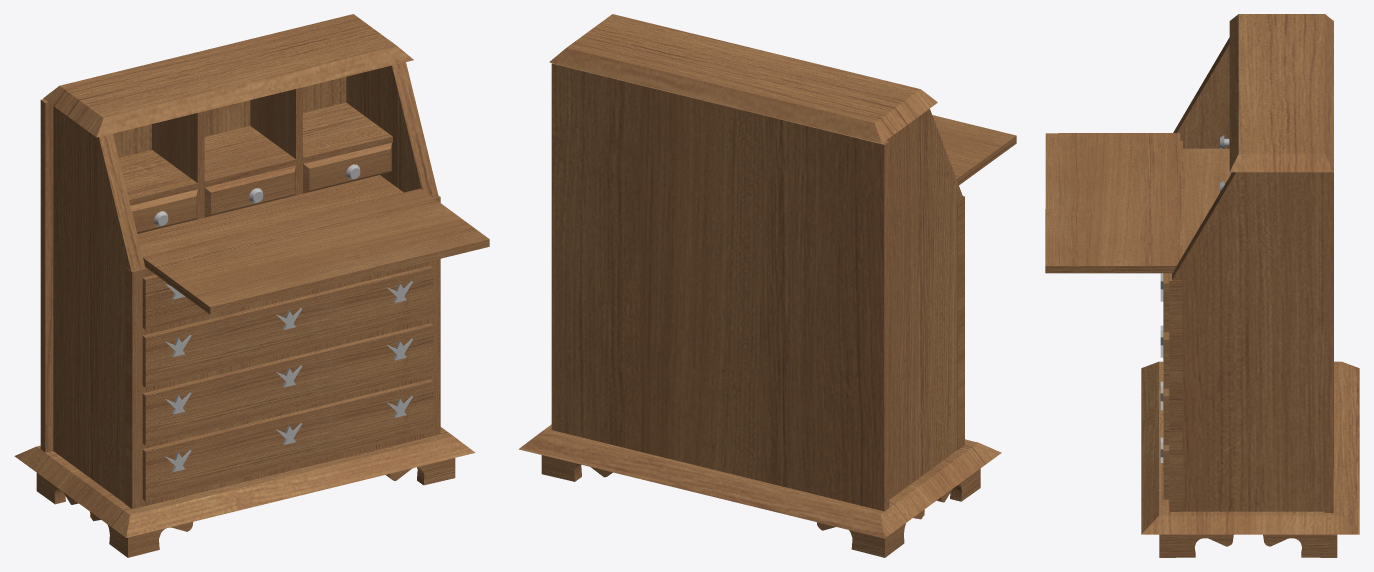
File: ShelfStand.fbx
3 renders of one model, left to right at view 1: azimuth 30°, elevation 25°; view 2: azimuth 150°, elevation 25°; view 3: azimuth 270°, elevation 25°, orthographic. The views are drawn at different scales.
Visible parts, largest first — view 1: Shelf, Stand, Handle_01; view 2: Shelf, Stand; view 3: Shelf, Stand, Handle_01.
Part boxes in pixels (box(x1,y1,x2,y2)): Shelf: box(14, 14, 489, 537); Stand: box(36, 458, 455, 557); Handle_01: box(165, 281, 412, 471); Shelf: box(519, 14, 1016, 538); Stand: box(541, 455, 980, 557); Shelf: box(1045, 14, 1359, 534); Stand: box(1159, 534, 1337, 557); Handle_01: box(1160, 273, 1163, 462).
Size of the model in its own units: 320 by 356 by 256.
2 materials, 1 textured.
